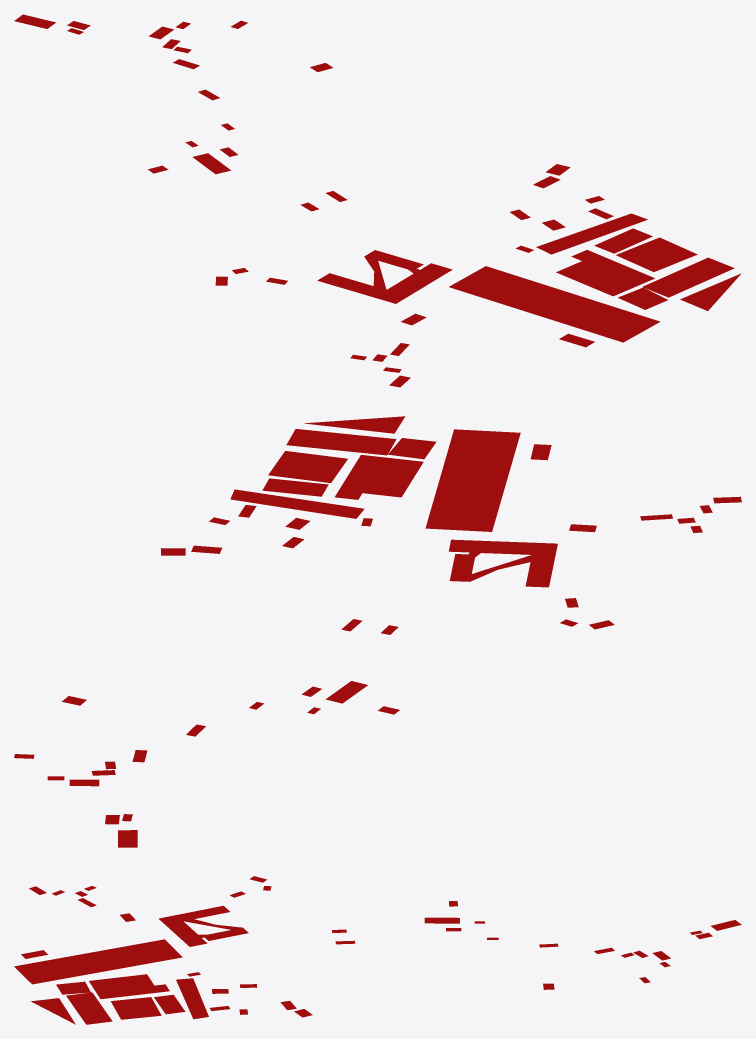
3 renders of one model, top to bottom at view 1: azimuth 30°, elevation 25°; view 2: azimuth 150°, elevation 25°; view 3: azimuth 270°, elevation 25°, orthographic. The views are drawn at different scales.
Bounding box in the file's own units: 218 × 0 × 450.
